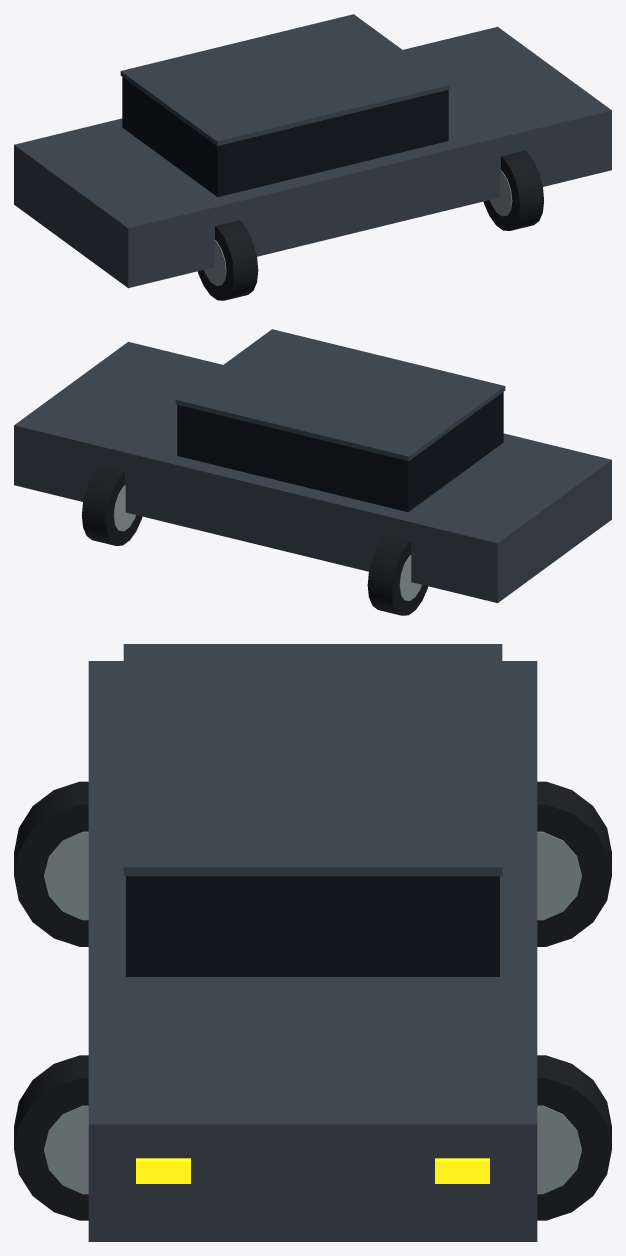
The model's file is car_sedan.glb.
3 views of the same model, one above another, from view 1: azimuth 30°, elevation 25°; view 2: azimuth 150°, elevation 25°; view 3: azimuth 270°, elevation 25° (orthographic). The views are drawn at different scales.
Parts seen in each view (by area): view 1: SedanCar; view 2: SedanCar; view 3: SedanCar.
Boxes of the visible parts, x1,y1,x2,y2 form: SedanCar: (14, 14, 611, 300); SedanCar: (14, 329, 611, 615); SedanCar: (14, 644, 611, 1241).
Size of the model in its own units: 4.43 by 1.29 by 2.4.
